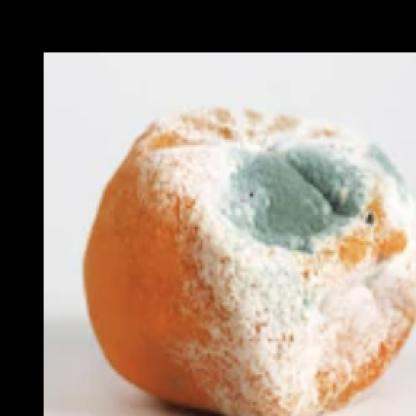rotten: (85, 99, 416, 416)
